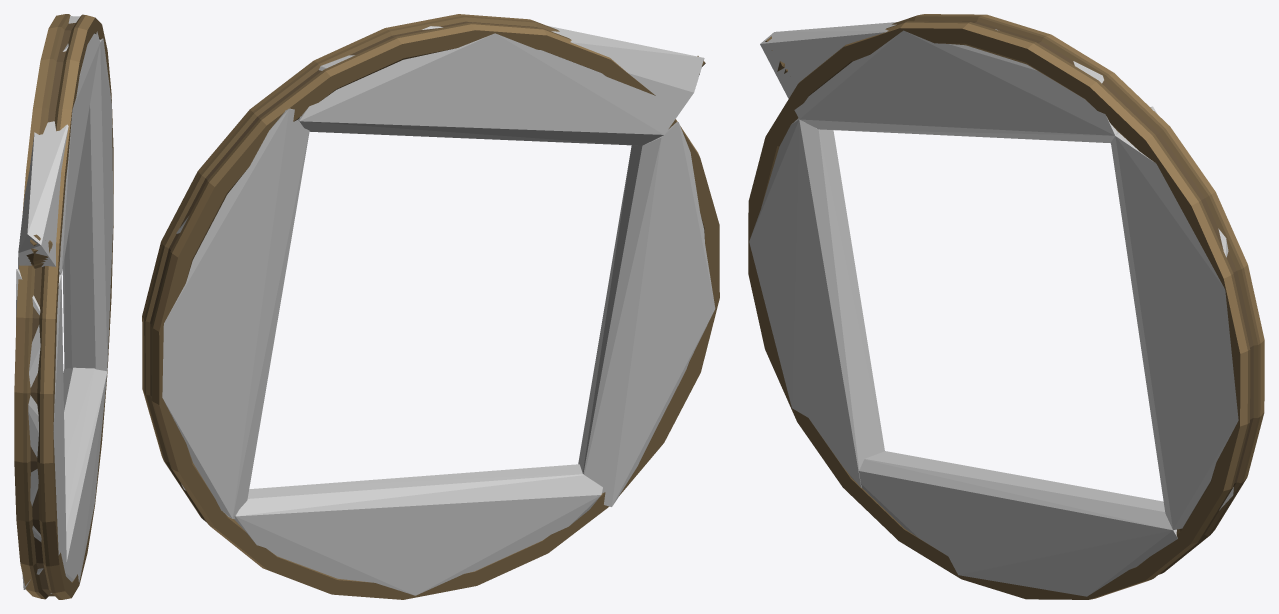
Rendered from SM_Bld_Planetarium_01_Ring_01.fbx.
3 renders of one model, left to right at view 1: azimuth 30°, elevation 25°; view 2: azimuth 150°, elevation 25°; view 3: azimuth 270°, elevation 25°, orthographic. The views are drawn at different scales.
Visible parts, largest first — view 1: SM_Bld_Planetarium_01_Ring_01_ConvexHulls, SM_Bld_Planetarium_01_Ring_01; view 2: SM_Bld_Planetarium_01_Ring_01_ConvexHulls, SM_Bld_Planetarium_01_Ring_01; view 3: SM_Bld_Planetarium_01_Ring_01_ConvexHulls, SM_Bld_Planetarium_01_Ring_01.
Boxes of the visible parts, x1,y1,x2,y2 form: SM_Bld_Planetarium_01_Ring_01_ConvexHulls: (16, 16, 113, 593); SM_Bld_Planetarium_01_Ring_01: (14, 14, 113, 599); SM_Bld_Planetarium_01_Ring_01_ConvexHulls: (162, 26, 715, 595); SM_Bld_Planetarium_01_Ring_01: (142, 14, 719, 599); SM_Bld_Planetarium_01_Ring_01_ConvexHulls: (749, 22, 1238, 596); SM_Bld_Planetarium_01_Ring_01: (748, 14, 1264, 599).
Size of the model in its own units: 222 by 293 by 348.
Materials: 2 (1 with a texture image).
